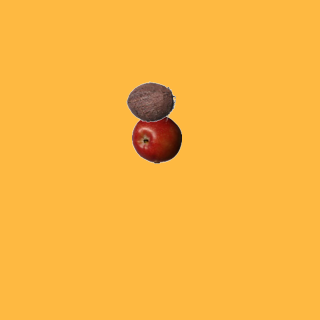Apple Braeburn: (131, 113, 181, 163)
Cocos: (125, 76, 175, 126)
